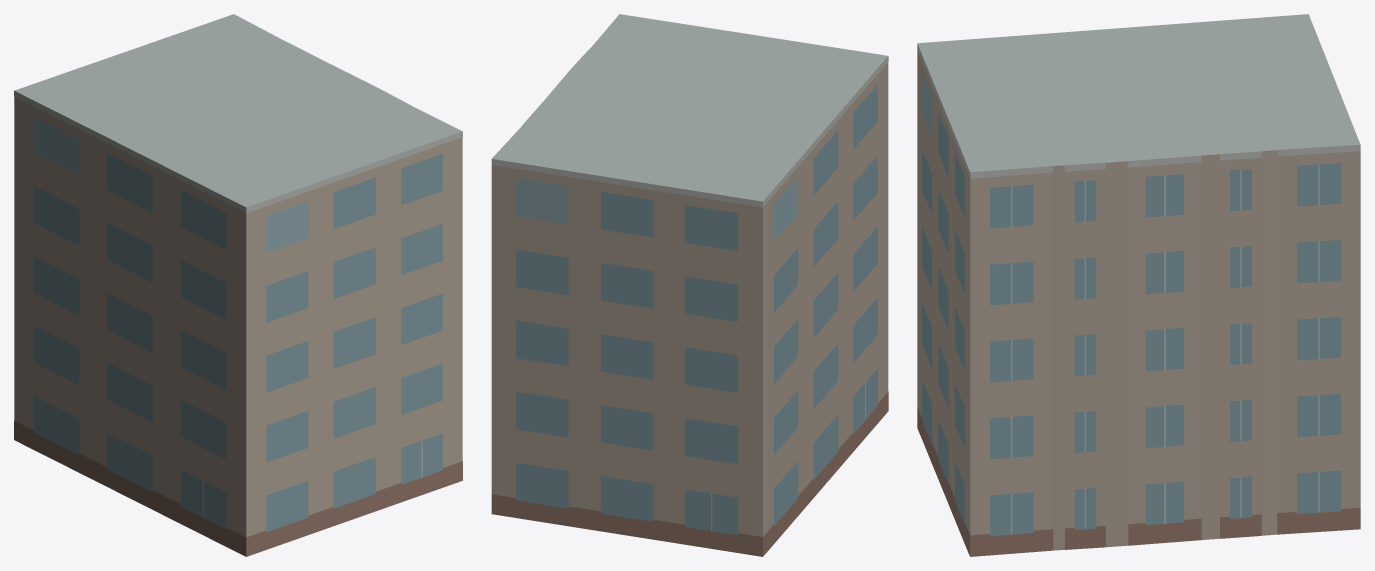
Rendered from survey-upis-32704500.glb.
3 views of the same model, side by side, from view 1: azimuth 30°, elevation 25°; view 2: azimuth 150°, elevation 25°; view 3: azimuth 270°, elevation 25° (orthographic). The views are drawn at different scales.
Parts seen in each view (by area): view 1: survey-upis-32704500.tmp; view 2: survey-upis-32704500.tmp; view 3: survey-upis-32704500.tmp.
Part boxes in pixels (x1=…): survey-upis-32704500.tmp: x1=14, y1=14, x2=462, y2=556; survey-upis-32704500.tmp: x1=491, y1=14, x2=888, y2=556; survey-upis-32704500.tmp: x1=917, y1=14, x2=1360, y2=556.
Bounding box in the file's own units: 12.81 × 14.5 × 15.16.
